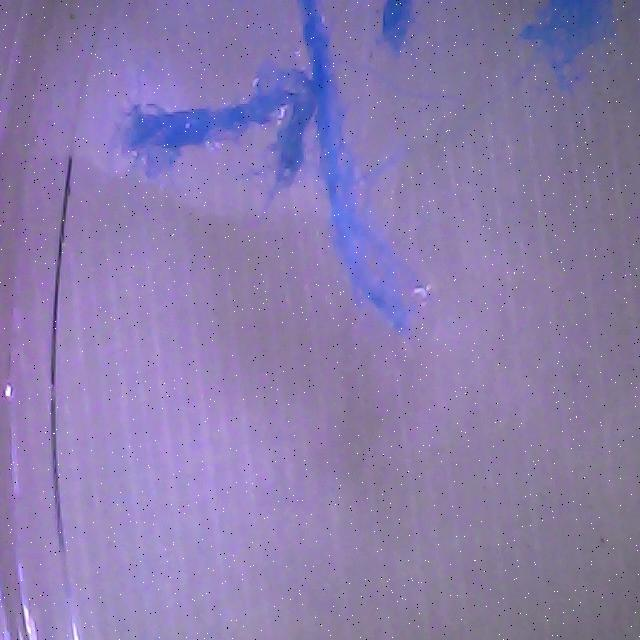fibers: (253, 0, 433, 344), (121, 48, 321, 197)
